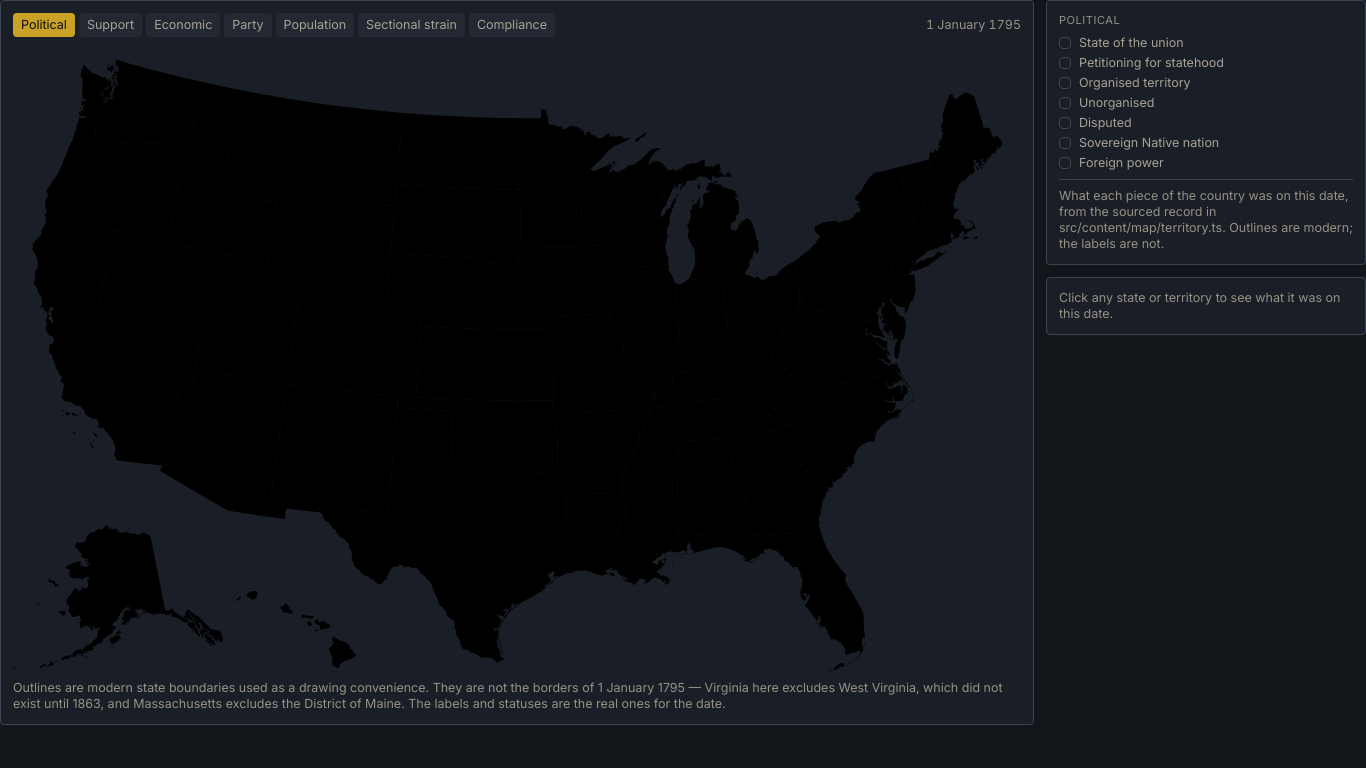
Test: the remaining map modes › says on the strain map that the measure is derived, not historical
Click the button "Sectional strain": (411,25) x1=358 y1=13 x2=465 y2=37
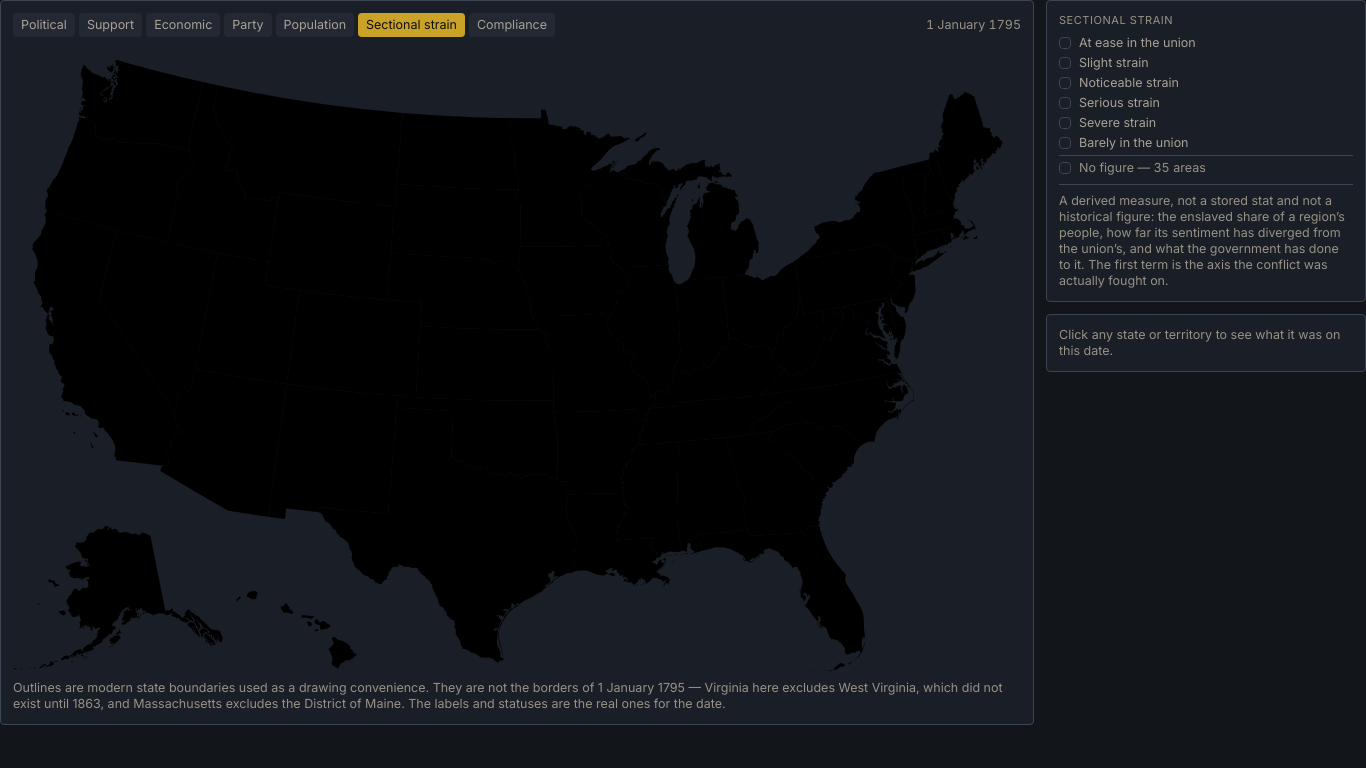
Check: the element with test id "map-legend" shows "derived measure", box x1=1059 y1=193 x2=1345 y2=288
Check: the element with test id "map-legend" shows "enslaved share", box x1=1059 y1=193 x2=1345 y2=288
